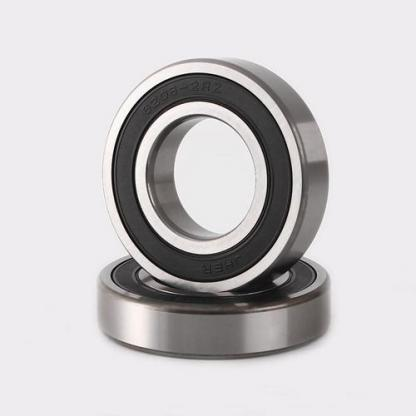FOD: (97, 53, 334, 294), (93, 247, 335, 364)
